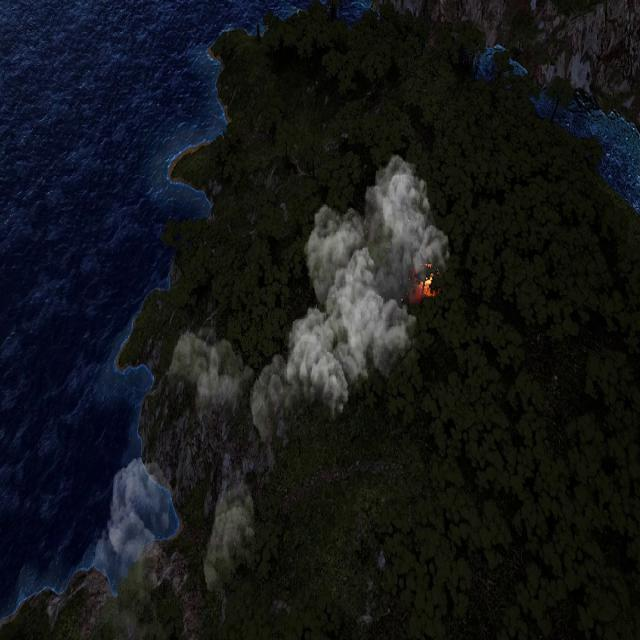fire: (418, 272, 437, 298)
smoke: (168, 158, 450, 441), (92, 454, 176, 592), (202, 485, 255, 597)
